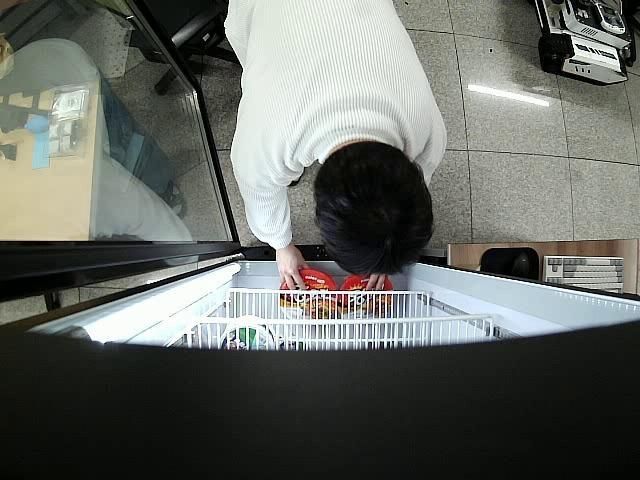10_wangTtukkeong: (280, 270, 338, 320), (340, 277, 392, 320)
